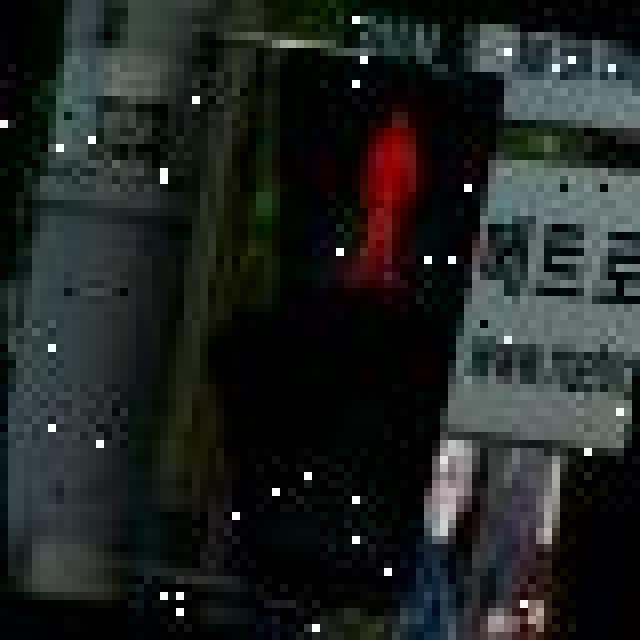redlight: (181, 55, 504, 607)
